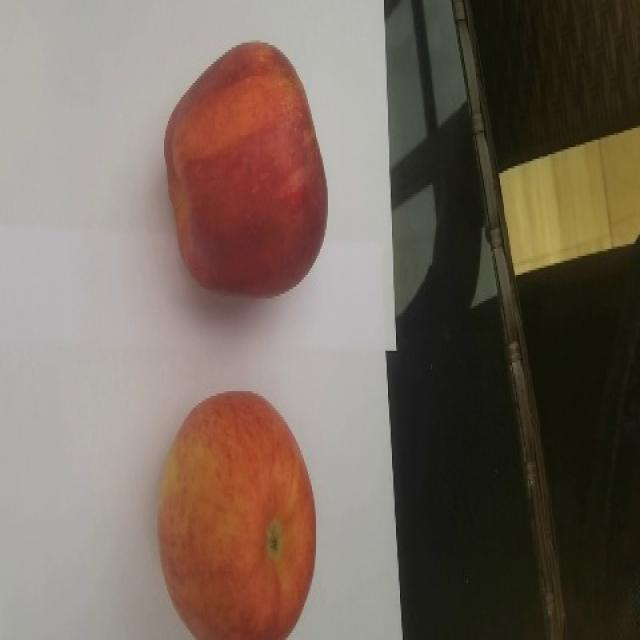Apple: (163, 39, 328, 298), (156, 389, 316, 639)
